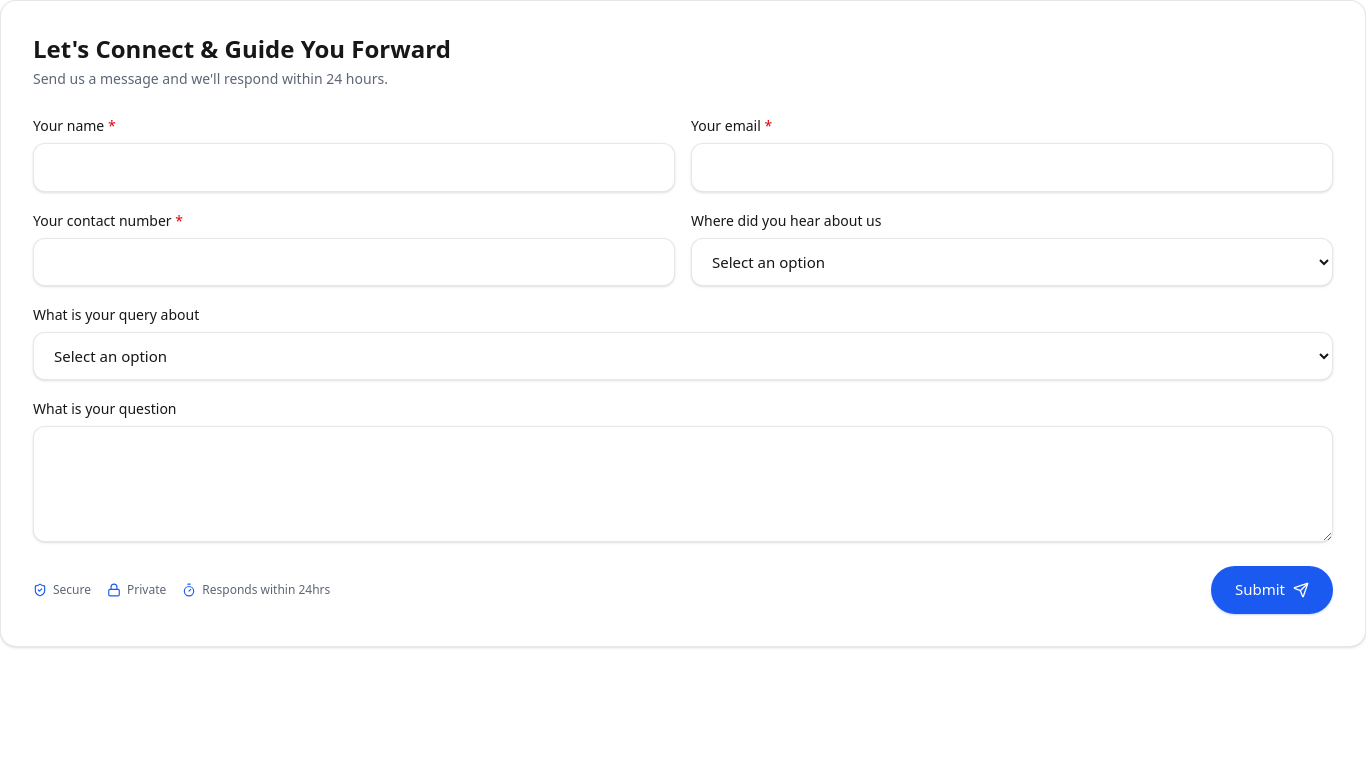
Test: ContactForm › rejects malformed emails and short phone numbers
Step 1. Type "Asha" into the field labelled "Your name *" → (354, 167), box [33,143,675,192]
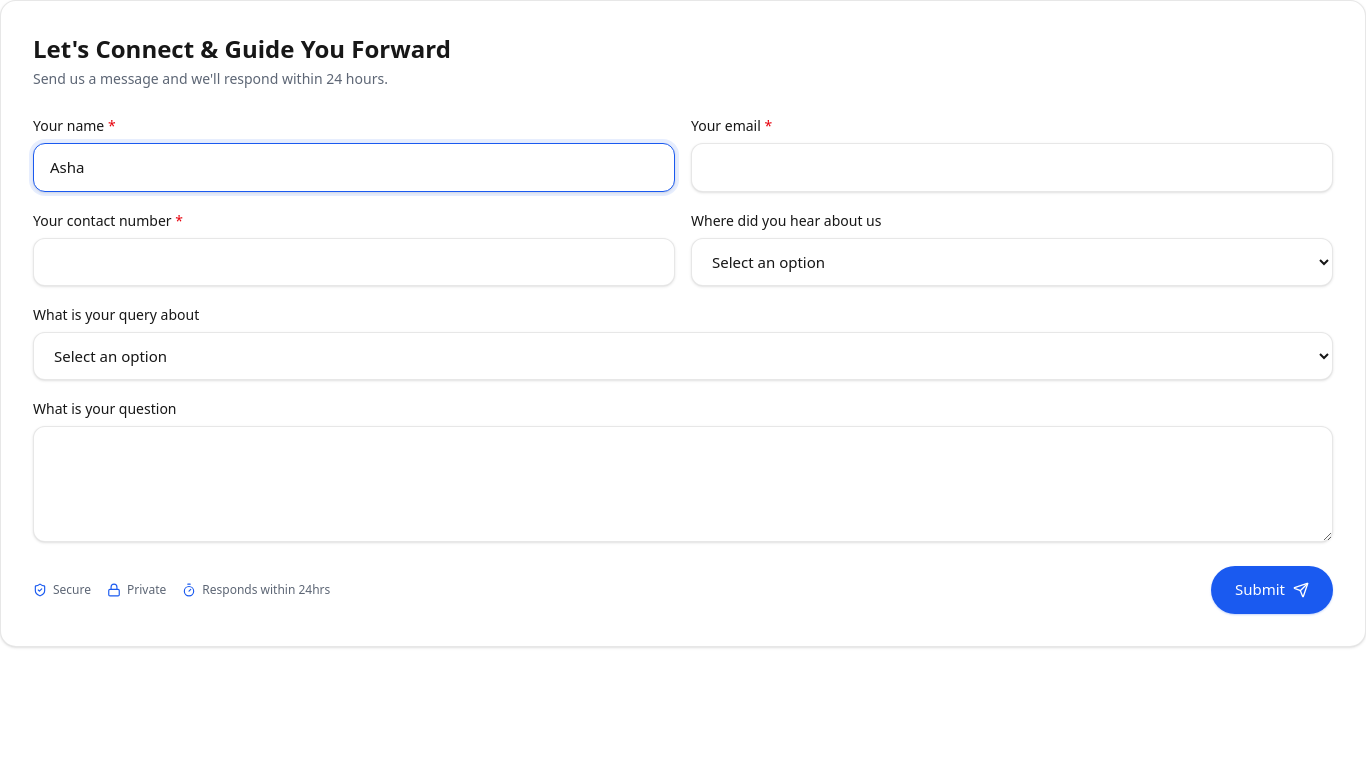
Step 2. Type "asha@example" into the field labelled "Your email *" → (1012, 167), box [691,143,1333,192]
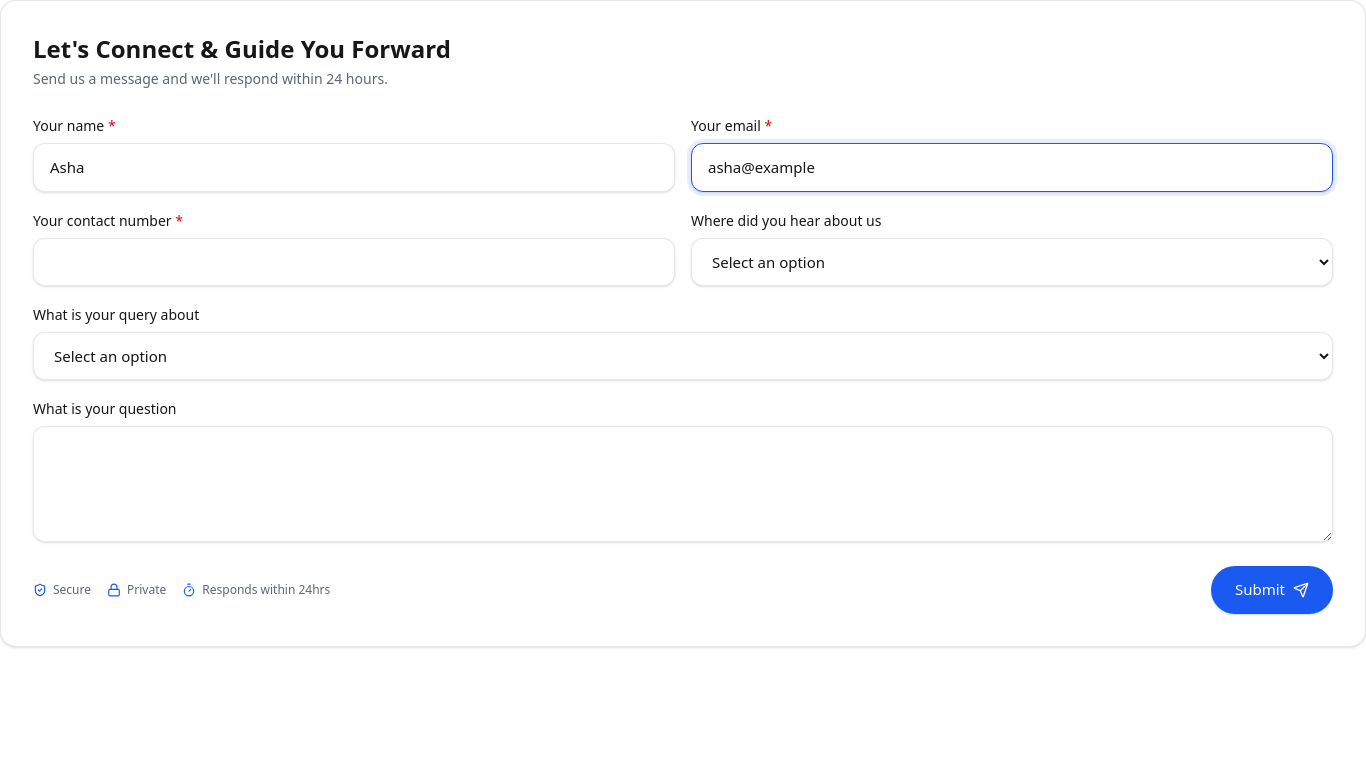
Step 3. Type "98765" into the field labelled "Your contact number *" → (354, 262), box [33,238,675,286]
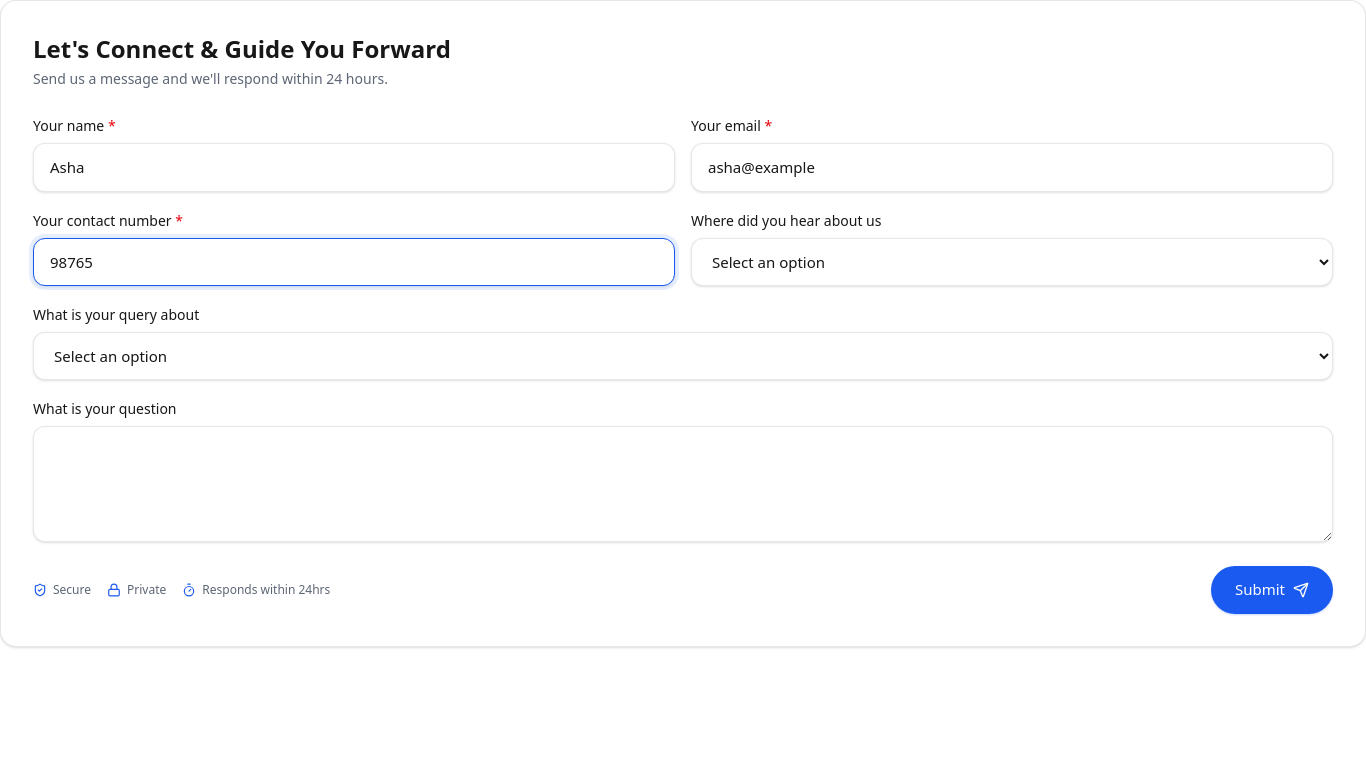
Step 4. Click the button "Submit" → (1272, 590), box [1211,566,1333,614]
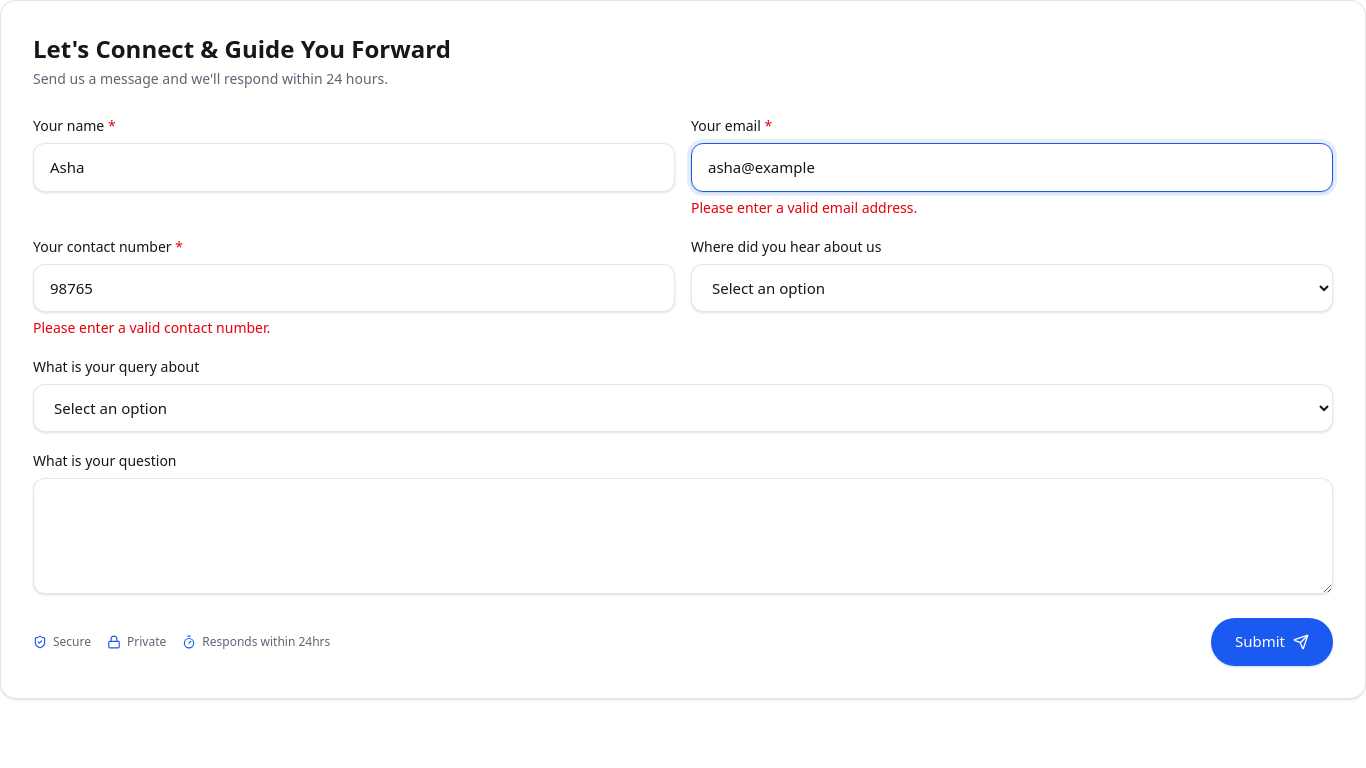
Expected: the text "Please enter a valid contact number." is shown, [33,318,270,337]
